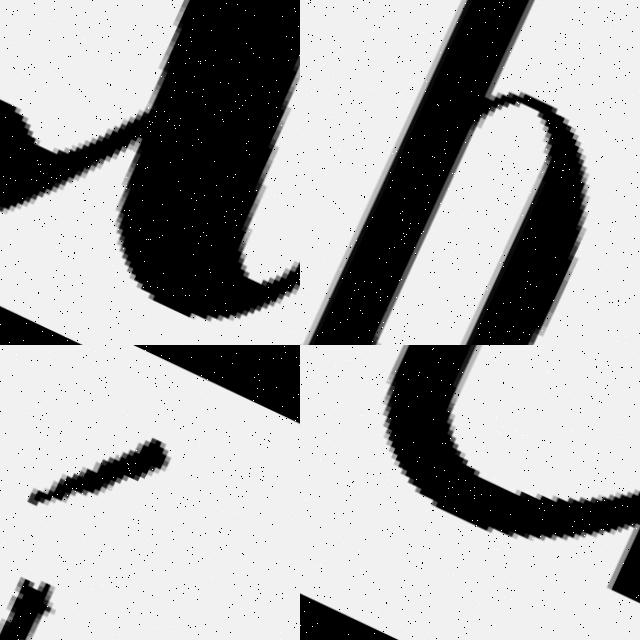B: (302, 0, 585, 345)
I: (0, 381, 248, 640)
U: (300, 345, 640, 640)
X: (0, 0, 300, 345)
